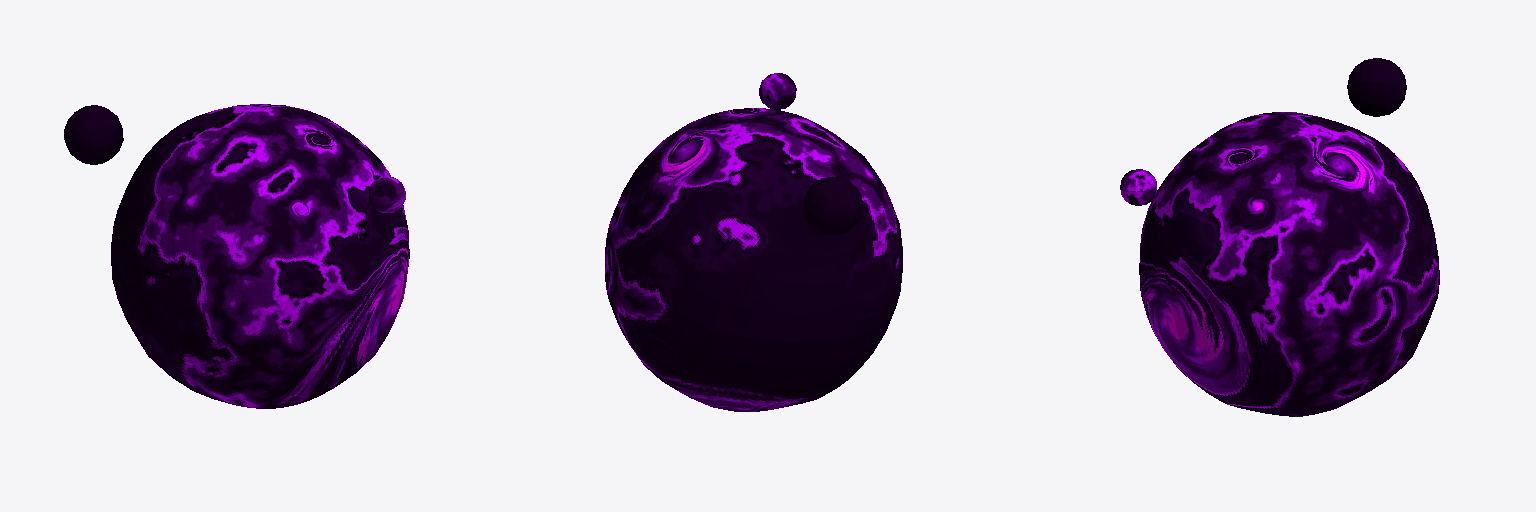
3 renders of one model, left to right at view 1: azimuth 30°, elevation 25°; view 2: azimuth 150°, elevation 25°; view 3: azimuth 270°, elevation 25°, orthographic.
Parts seen in each view (by area): view 1: PurplePlanet; view 2: PurplePlanet; view 3: PurplePlanet.
Part boxes in pixels (x1,y1,x2,y2): PurplePlanet: (64,104,409,408); PurplePlanet: (605,73,902,411); PurplePlanet: (1120,58,1439,416).
Bounding box in the file's own units: 143 × 138 × 143.
1 materials, 1 textured.